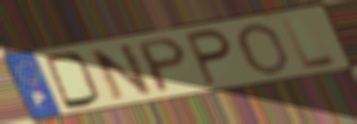D: (41, 51, 104, 111)
L: (278, 15, 340, 72)
N: (87, 41, 157, 103)
O: (237, 21, 293, 76)
P: (135, 35, 190, 96), (183, 27, 235, 88)
